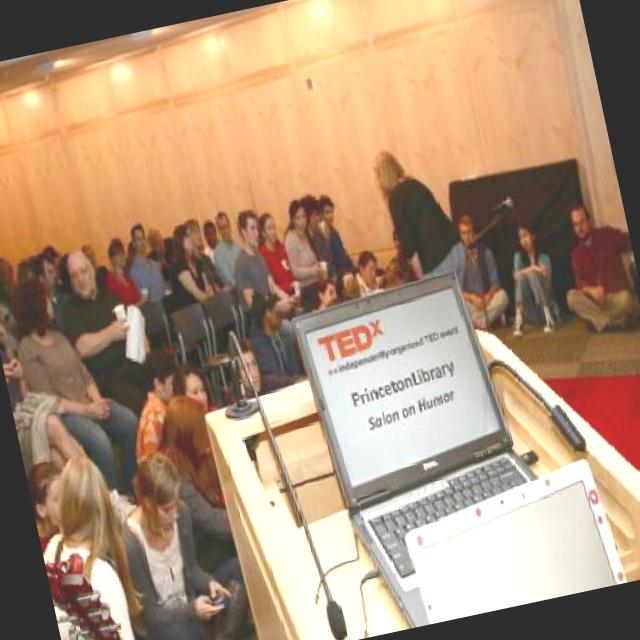Person: (0, 151, 553, 605), (0, 258, 154, 523), (23, 435, 201, 640), (97, 441, 260, 640), (368, 138, 473, 305), (547, 193, 640, 341), (492, 216, 570, 346), (114, 345, 192, 468), (253, 206, 312, 315), (272, 194, 328, 289), (158, 222, 216, 309), (96, 233, 152, 315), (120, 218, 170, 303), (383, 226, 421, 290)
